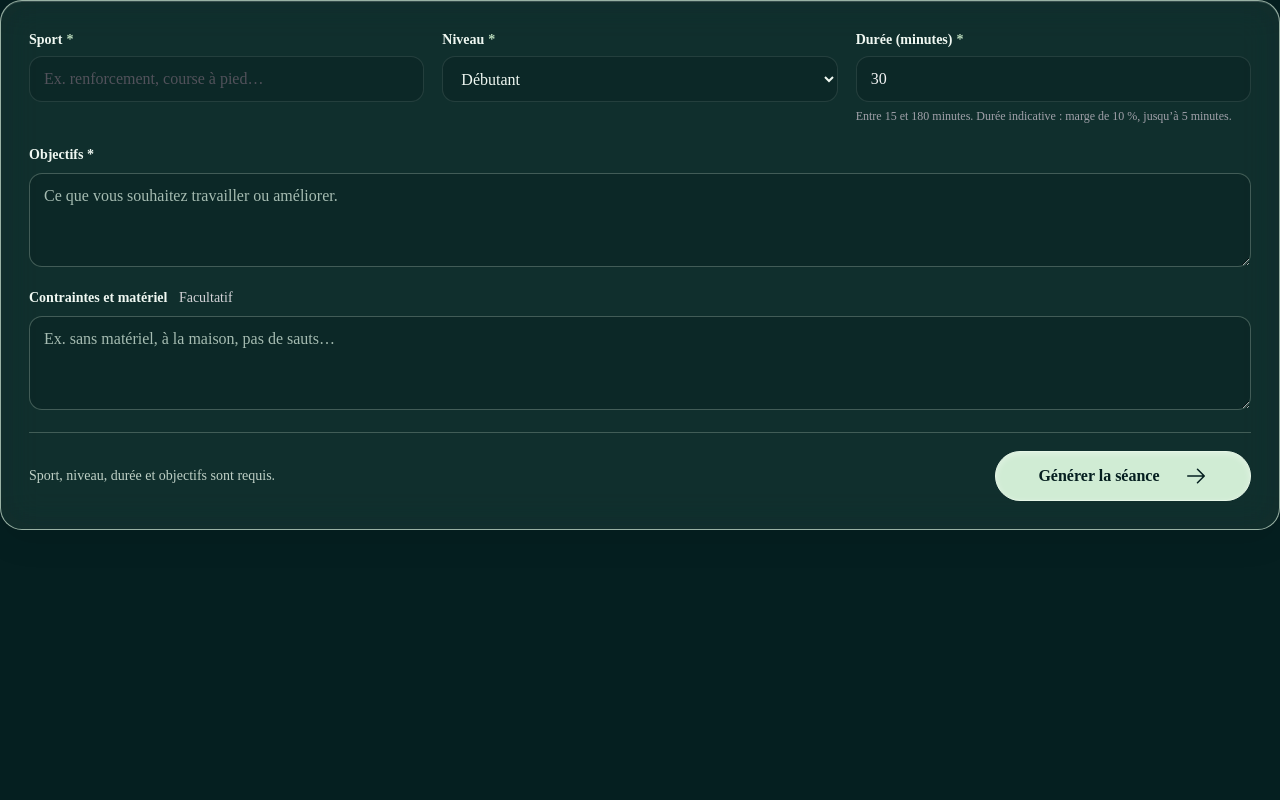
attente de génération › bloque les doubles envois et termine immédiatement à la réponse {"error":"Réessayez dans un instant"}
In the field labelled "Sport*": [227, 79] box [29, 56, 424, 102], type "Boxe anglaise"
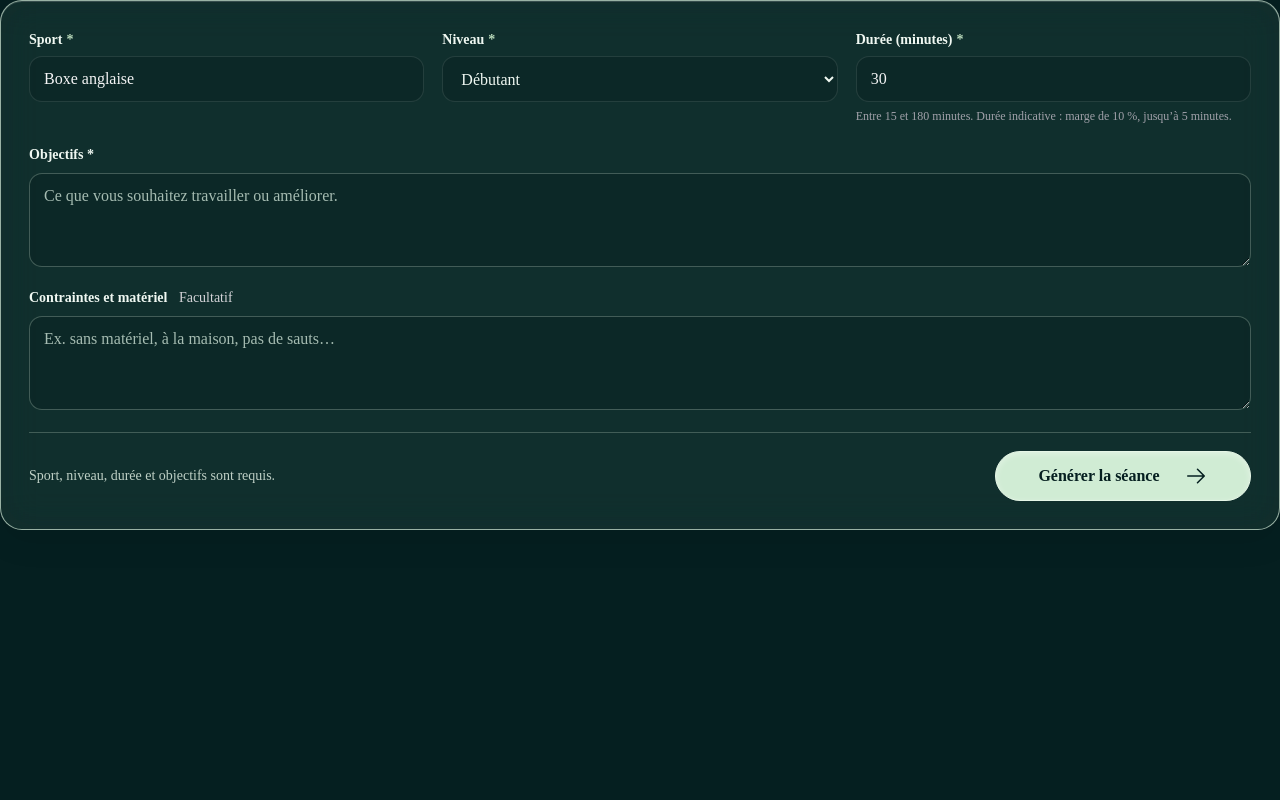
In the text box labelled "Objectifs *": [640, 220] box [29, 173, 1251, 267], type "Travailler mon explosivité"
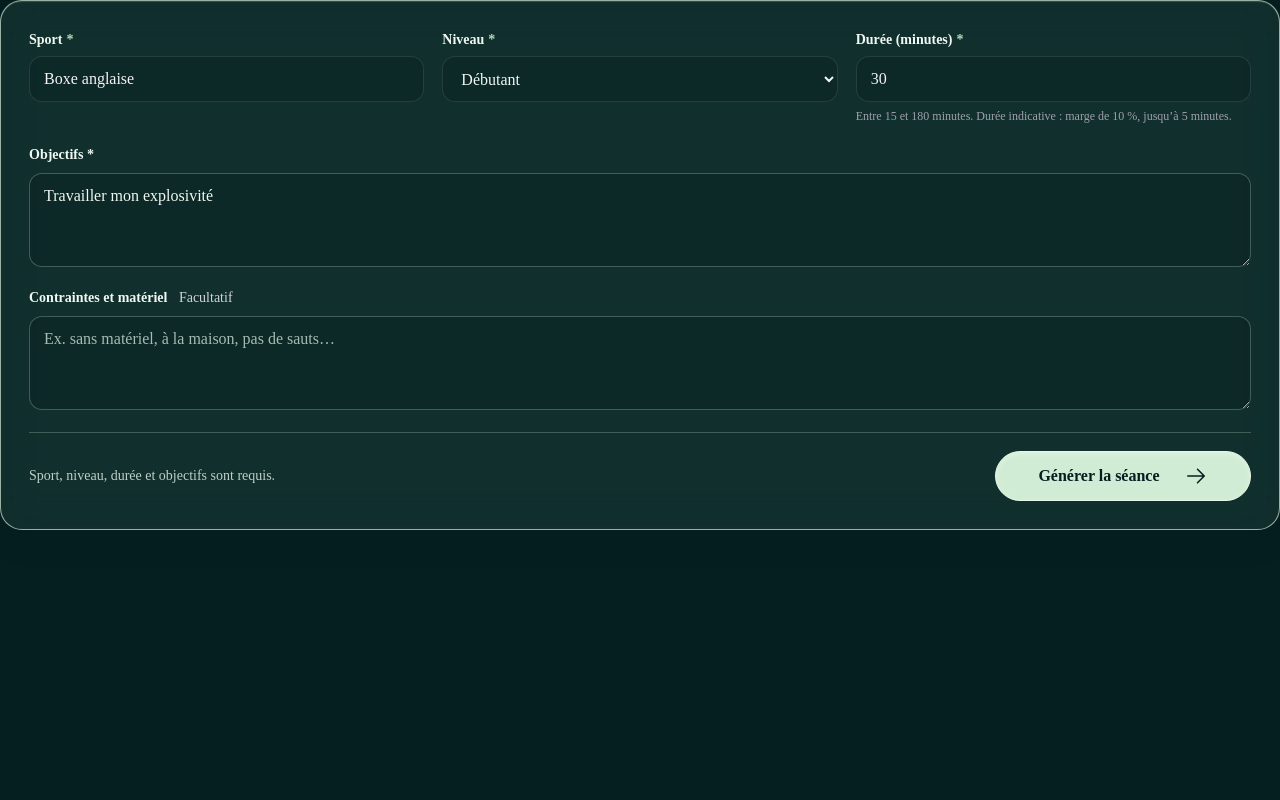
In the text box labelled "Contraintes et matériel Facultatif": [640, 363] box [29, 316, 1251, 410], type "Sac de frappe"
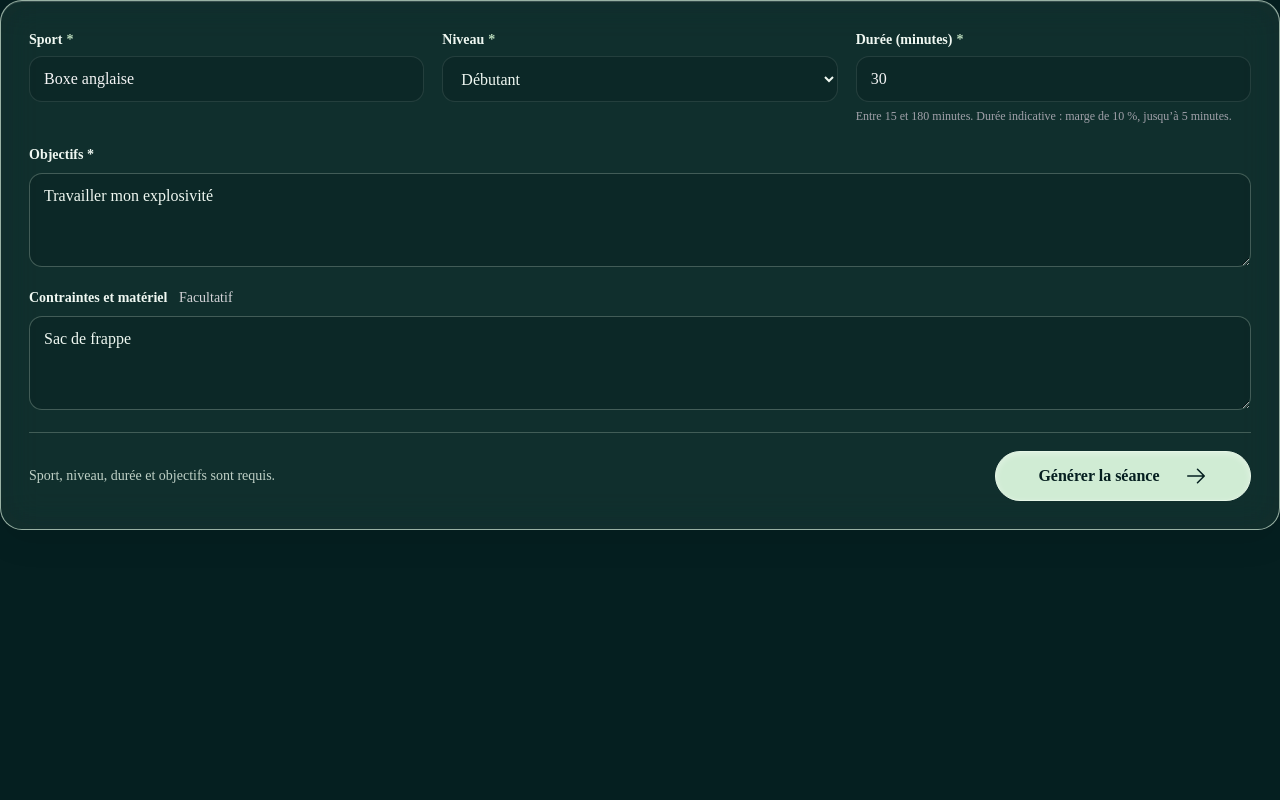
Submit the form
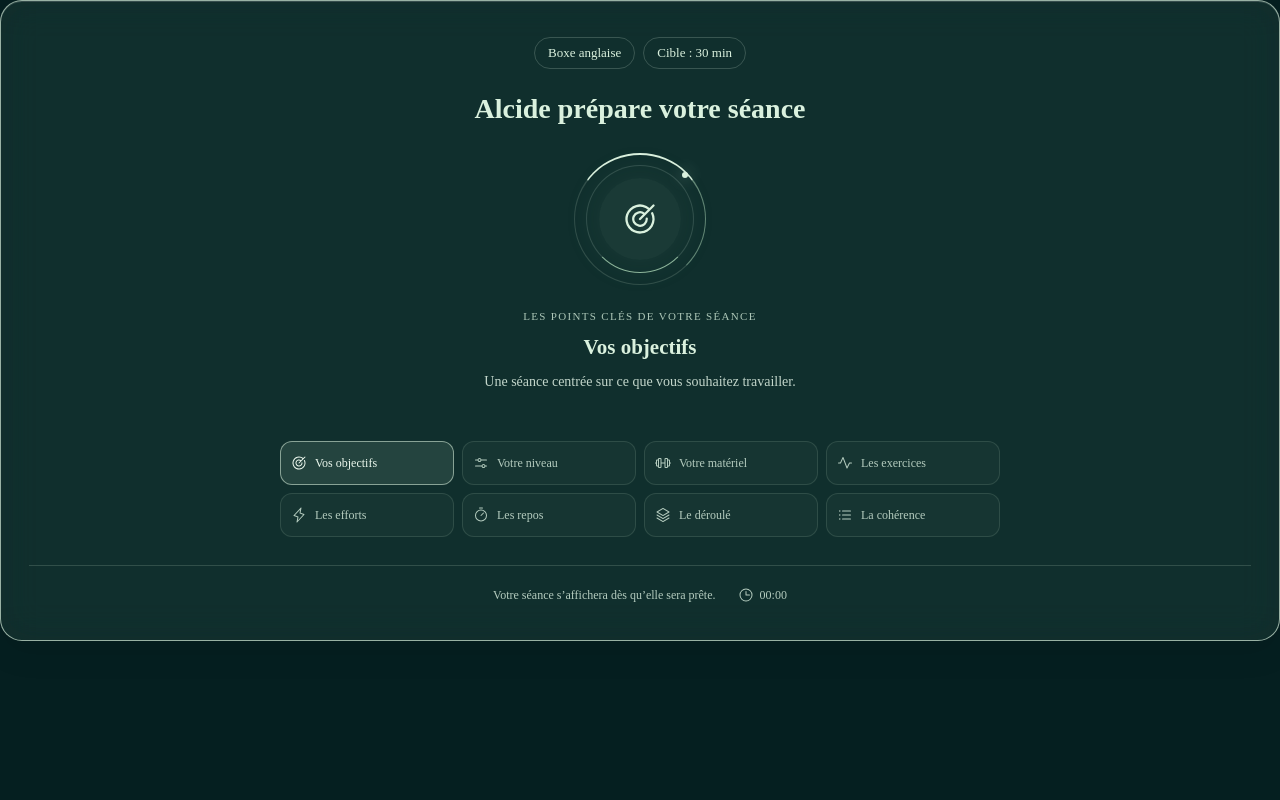
Check: the heading "Alcide prépare votre séance" is shown, box [474, 90, 806, 126]
Check: the label "Sport" is gone
Submit the form
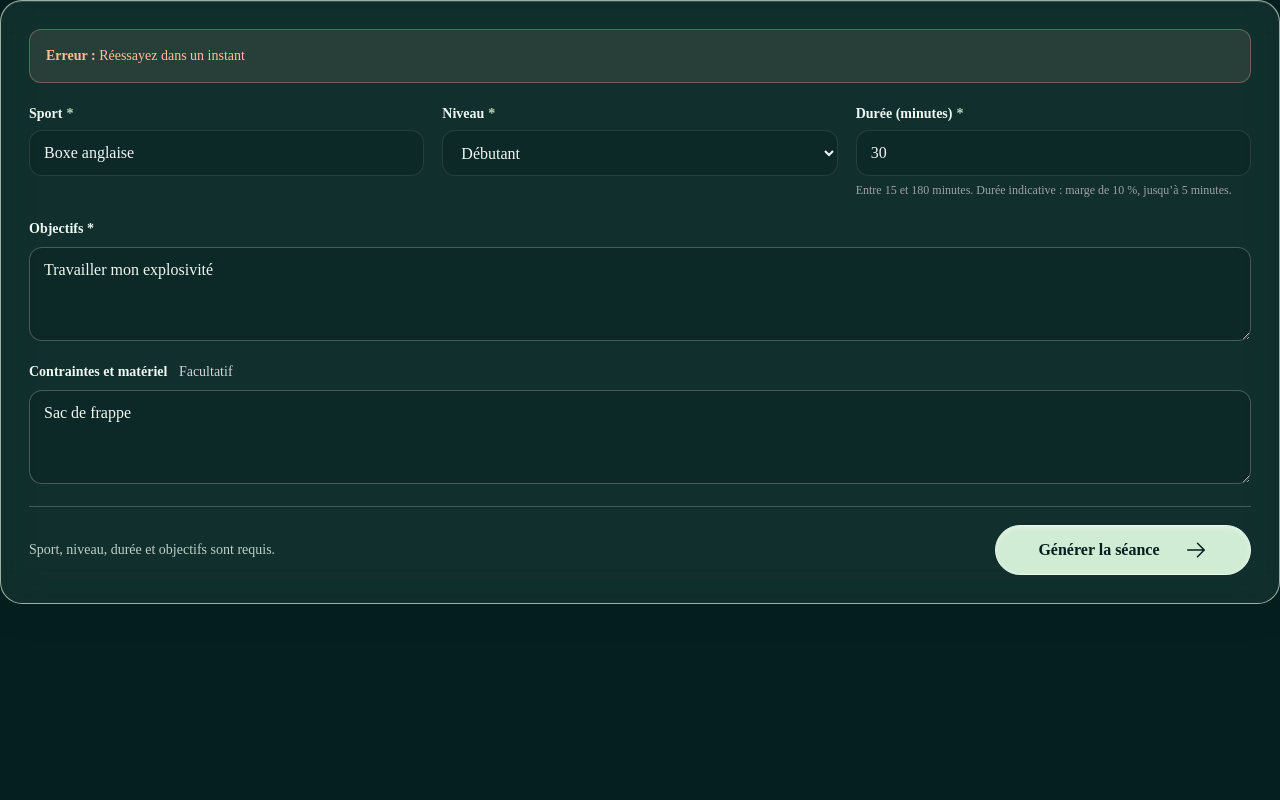
Check: the heading "Alcide prépare" is gone
Check: the message shows "Réessayez dans un instant", box [99, 48, 245, 63]
